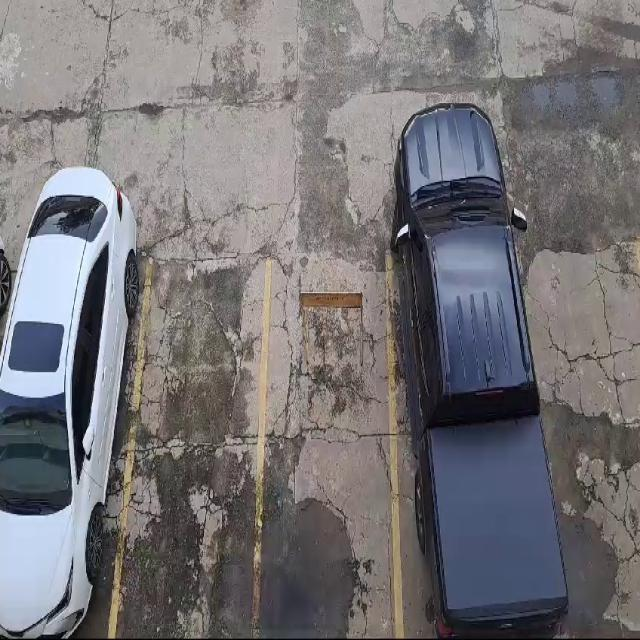empty: (111, 254, 269, 638), (254, 255, 401, 637)
notEmpty: (387, 249, 562, 637), (0, 259, 151, 636)
